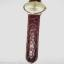watch: (23, 0, 46, 63)
